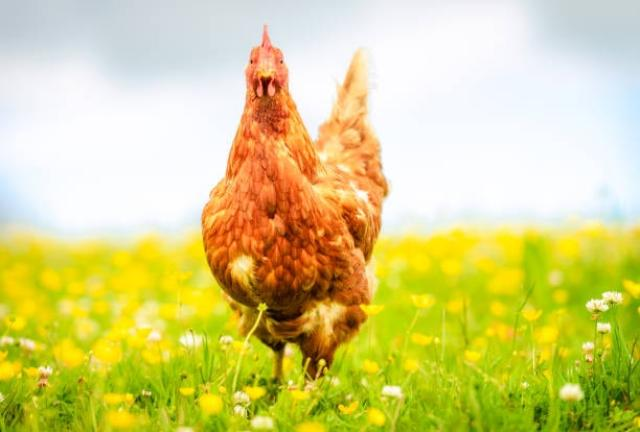Chicken: (201, 26, 389, 384)
